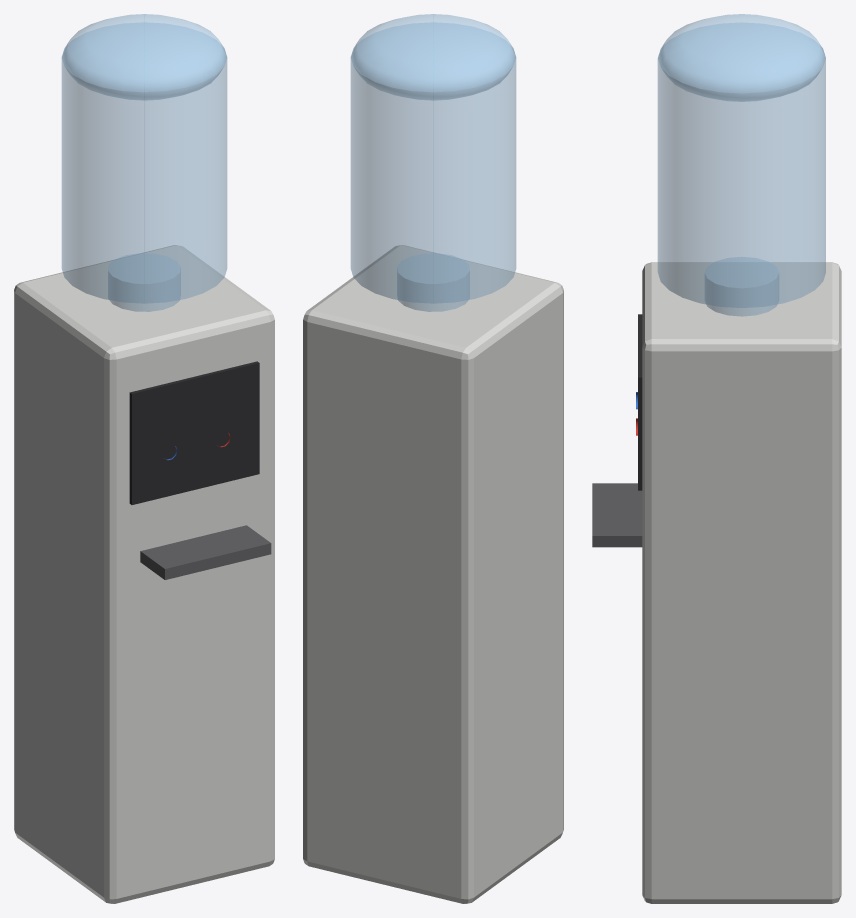
File: water_dispenser.glb
The picture shows the model from 3 angles, left to right: view 1: azimuth 30°, elevation 25°; view 2: azimuth 150°, elevation 25°; view 3: azimuth 270°, elevation 25°; orthographic projection.
Parts seen in each view (by area): view 1: Cabinet, Bottle, Panel, Tray; view 2: Cabinet, Bottle; view 3: Cabinet, Bottle, Tray, Panel.
Part boxes in pixels (x1,y1,x2,y2): Cabinet: [14, 245, 274, 903]; Bottle: [61, 14, 227, 311]; Panel: [129, 361, 259, 504]; Tray: [140, 525, 271, 579]; Cabinet: [303, 245, 563, 903]; Bottle: [350, 14, 516, 311]; Cabinet: [642, 262, 841, 903]; Bottle: [657, 14, 825, 316]; Tray: [592, 483, 642, 547]; Panel: [638, 314, 642, 490].
Size of the model in its own units: 0.32 by 1.48 by 0.4.
